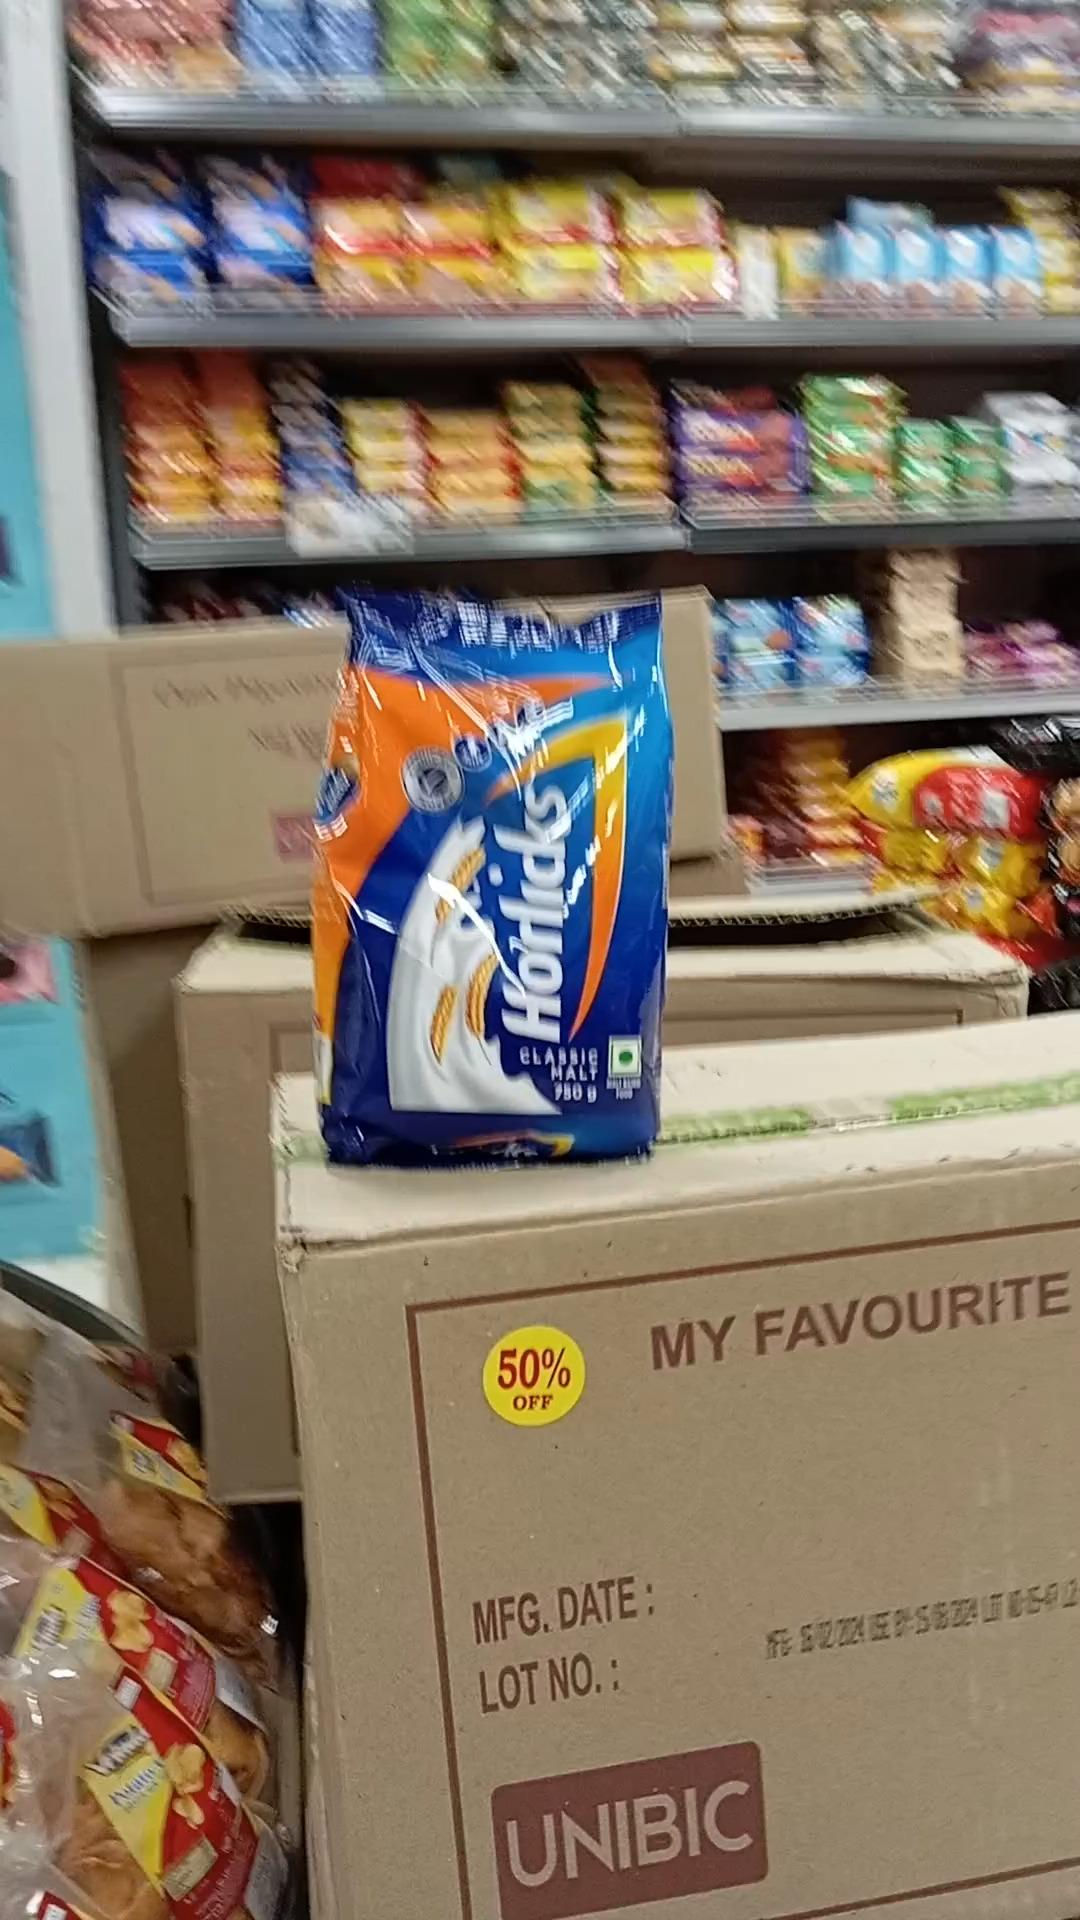HORLICK_CLASSIC_MALT_750_G_POUCH: (327, 575, 669, 1166)
